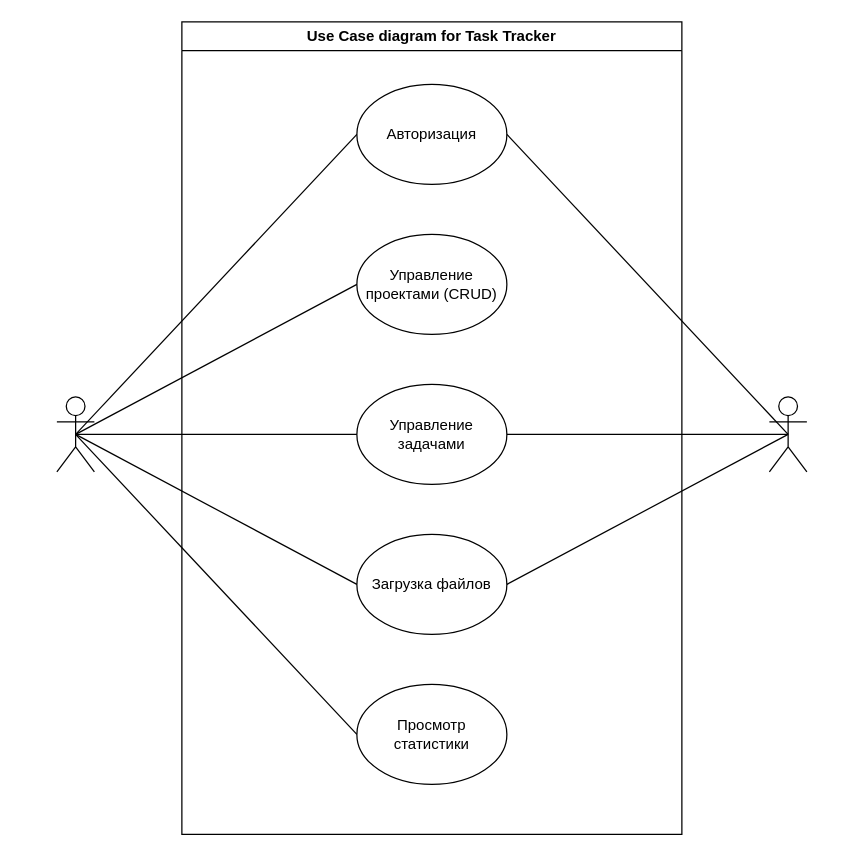
This 859x856 diagram has some shape labels left out. Each missing label, with the centre of its shape:
"Администратор" belongs at pixel 75 434.
"Пользователь" belongs at pixel 787 434.
